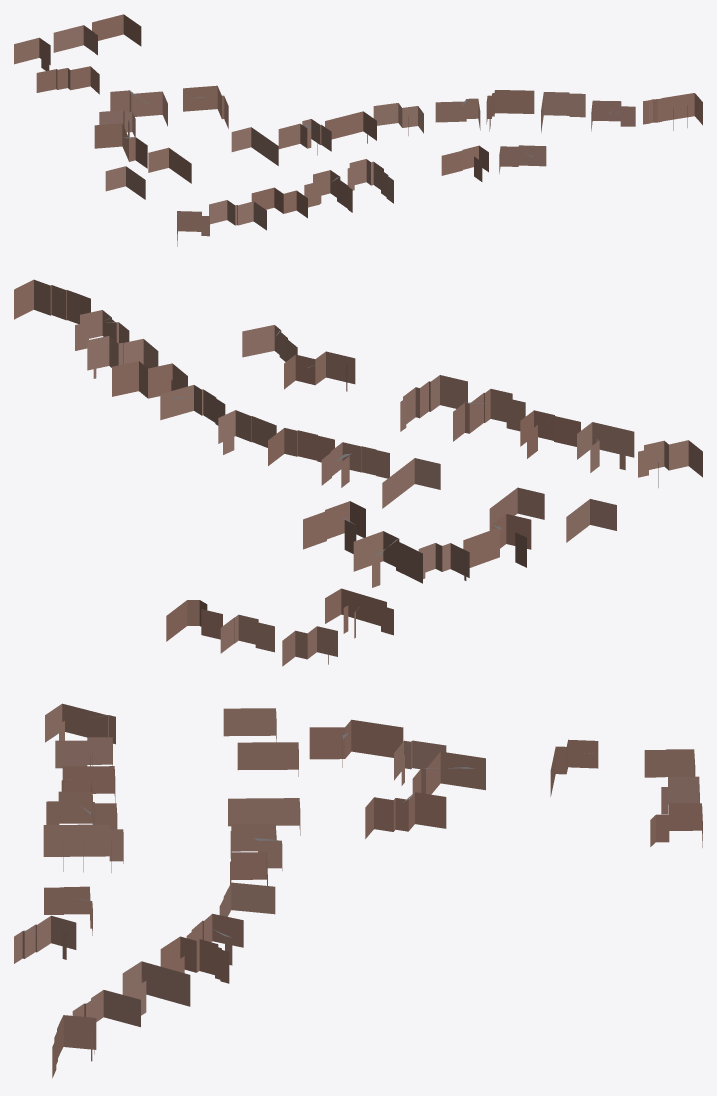
Rendered from c_1645_17837_buildings_residential.glb.
The picture shows the model from 3 angles, top to bottom: view 1: azimuth 30°, elevation 25°; view 2: azimuth 150°, elevation 25°; view 3: azimuth 270°, elevation 25°; orthographic projection. The views are drawn at different scales.
Visible parts, largest first — view 1: geometry_0; view 2: geometry_0; view 3: geometry_0.
Boxes of the visible parts, x1,y1,x2,y2 form: geometry_0: (14, 14, 702, 246); geometry_0: (14, 279, 702, 666); geometry_0: (14, 703, 702, 1078).
Size of the model in its own units: 259 by 11.08 by 215.
